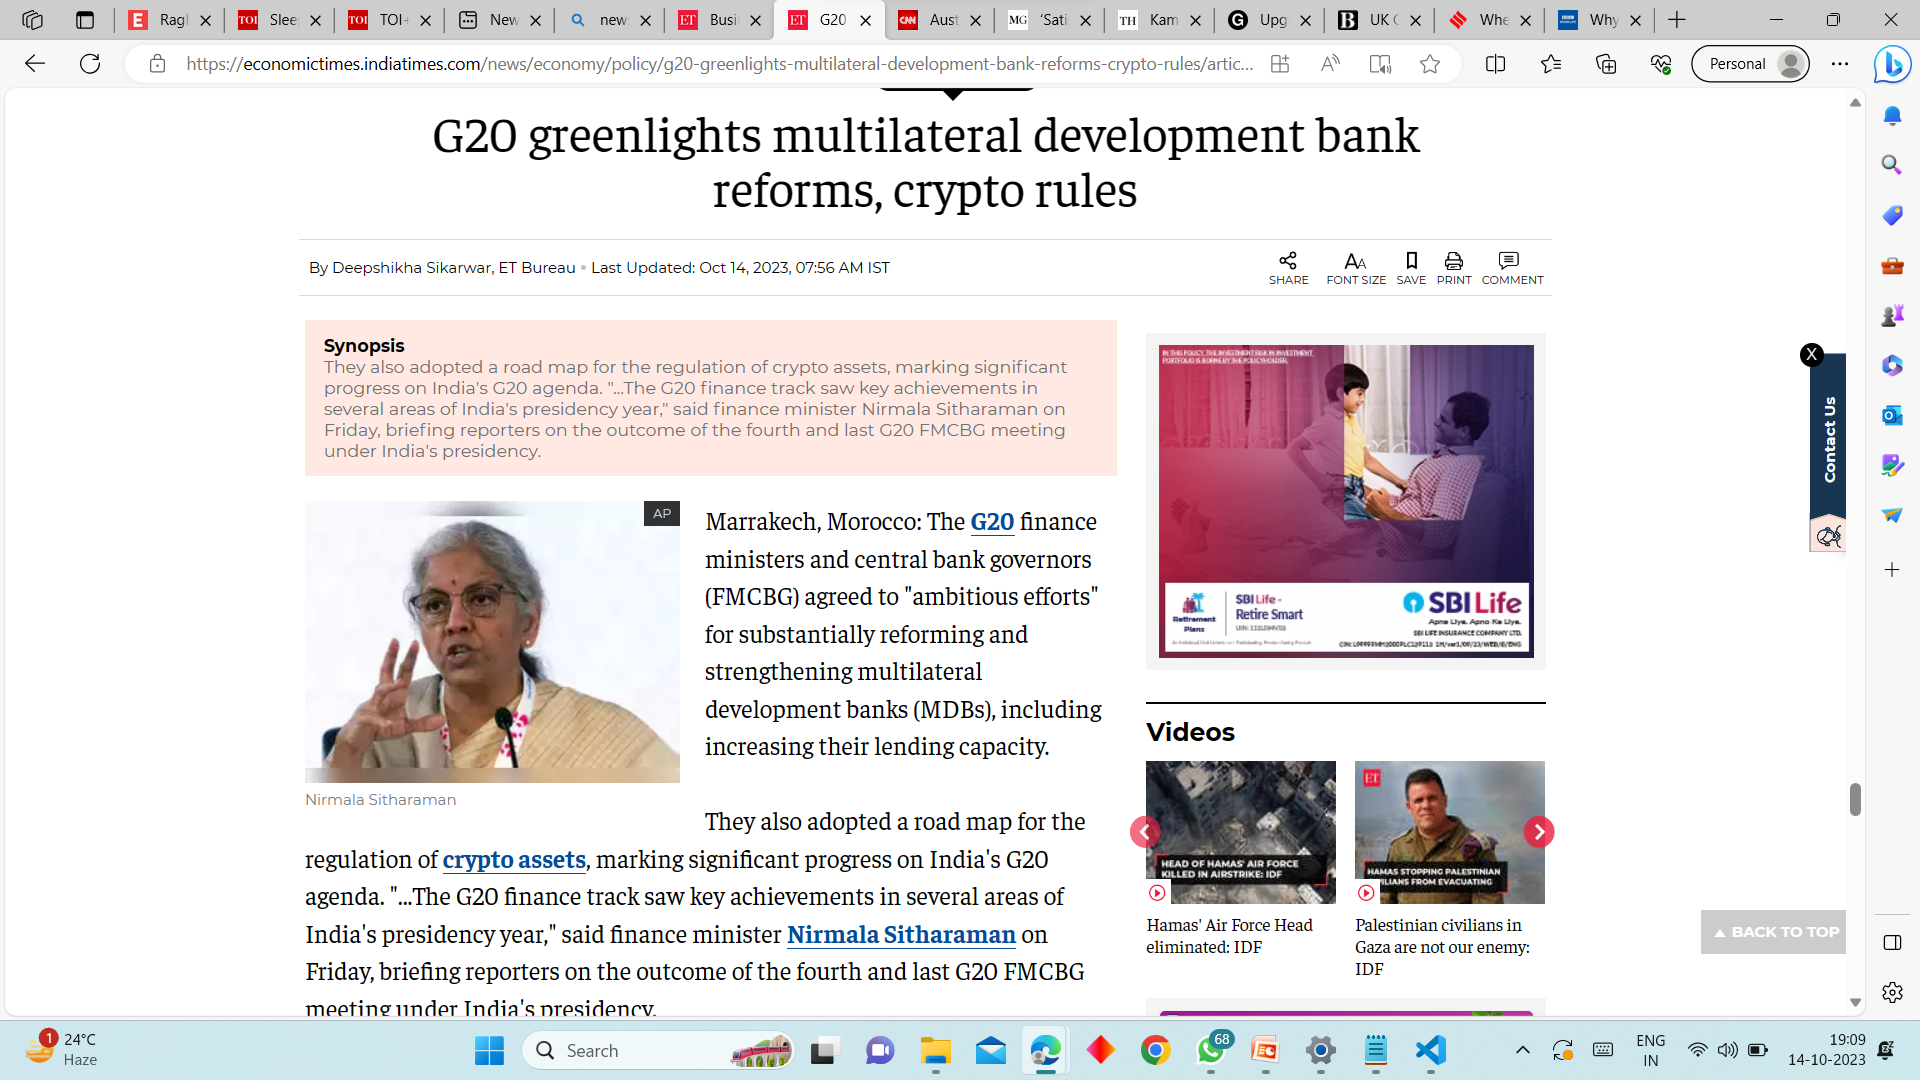Image: (1160, 327, 1553, 669), (311, 512, 702, 785), (1129, 756, 1346, 915), (1348, 771, 1568, 906)
Paragraph: (302, 810, 1100, 1015), (409, 94, 1451, 212), (700, 501, 1121, 765), (311, 356, 1102, 472), (298, 237, 897, 284), (1350, 916, 1553, 986), (1135, 919, 1321, 959), (1141, 711, 1270, 752), (298, 790, 463, 814), (322, 324, 427, 360), (1327, 248, 1398, 298), (1489, 248, 1536, 290), (1275, 244, 1311, 289), (1443, 253, 1469, 286), (1408, 257, 1429, 289)
